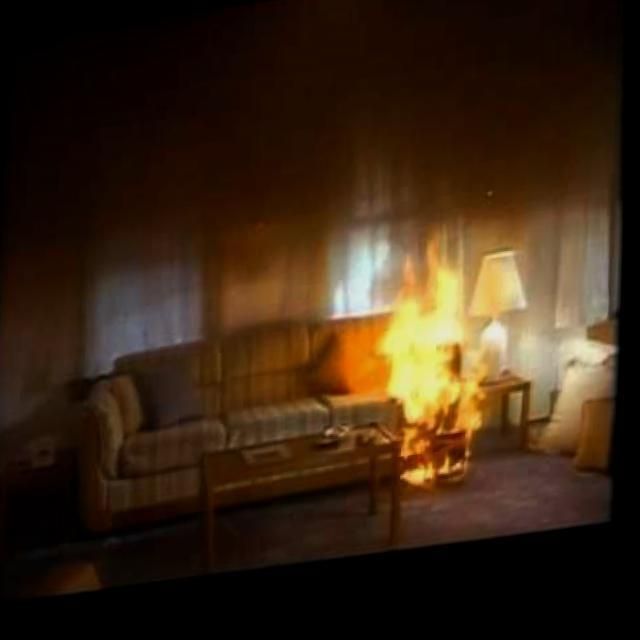Fire: (350, 213, 519, 510)
